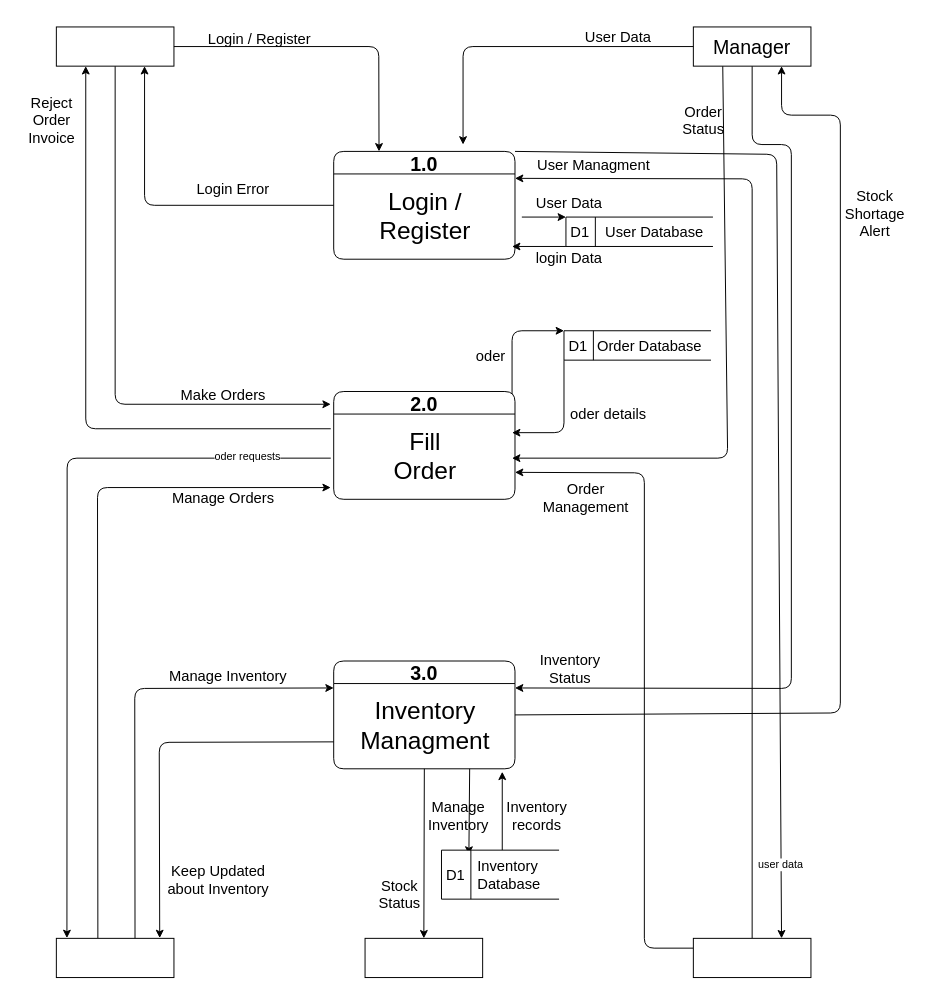
Some shapes in this 930 by 995 pixel diagram are drawn without their labels. Here are the shapes that lost their labels. From the top down, the centre of each, then its label:
At point 114,46: "Customer".
At point 114,957: "Managment".
At point 423,957: "Inventory".
At point 751,957: "Admin".
